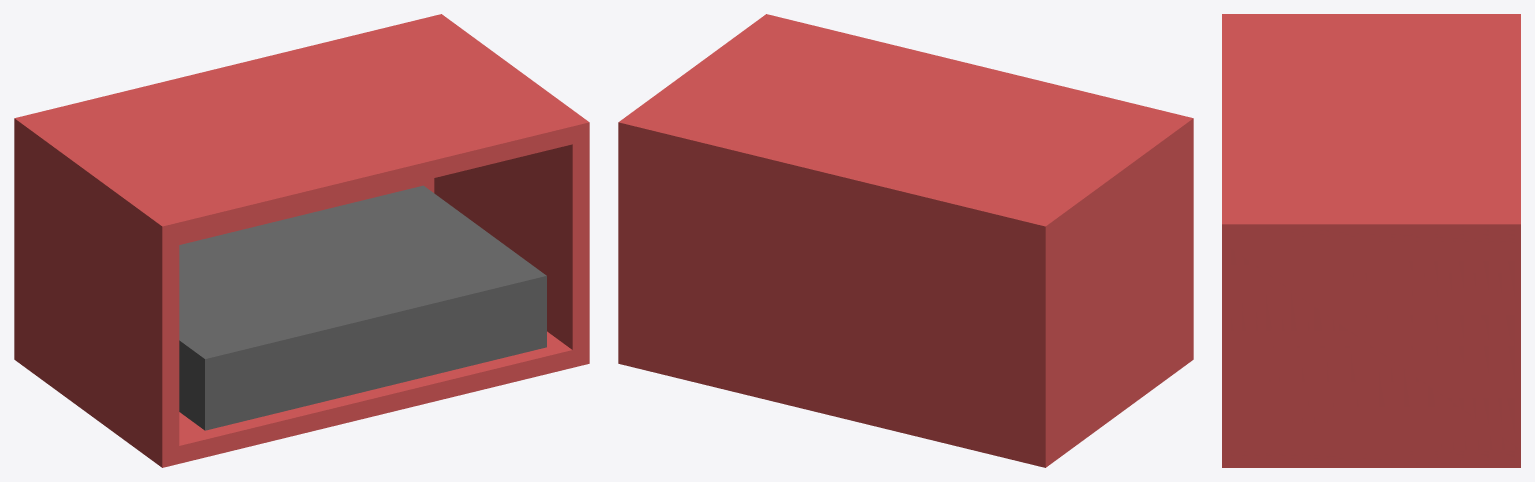
Rendered from toolbox.gltf.
3 renders of one model, left to right at view 1: azimuth 30°, elevation 25°; view 2: azimuth 150°, elevation 25°; view 3: azimuth 270°, elevation 25°, orthographic.
Parts seen in each view (by area): view 1: Lid, Box, Tray; view 2: Box, Lid; view 3: Lid, Box.
Part boxes in pixels (left/top/right/bottom): Lid: left=14, top=14, right=589, bottom=244; Box: left=14, top=136, right=589, bottom=467; Tray: left=179, top=185, right=546, bottom=430; Box: left=618, top=136, right=1193, bottom=467; Lid: left=618, top=14, right=1193, bottom=244; Lid: left=1222, top=14, right=1520, bottom=242; Box: left=1222, top=242, right=1520, bottom=467.
Bounding box in the file's own units: 0.5 × 0.27 × 0.3.
